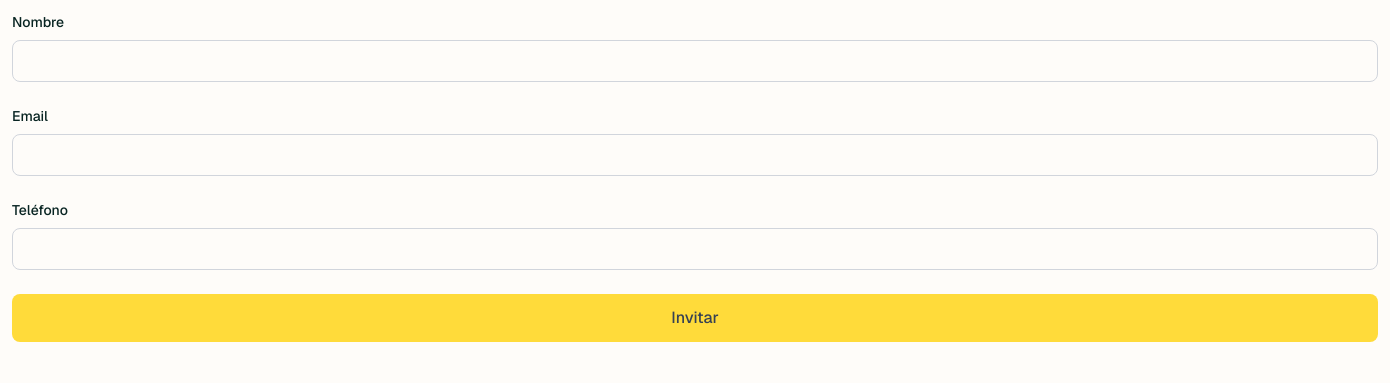
Scenario: ReferralForm › should show validation error for invalid email
Step 1. Type "John Doe" into the field labelled "Nombre" → {"x": 695, "y": 61}, box [12,40,1378,82]
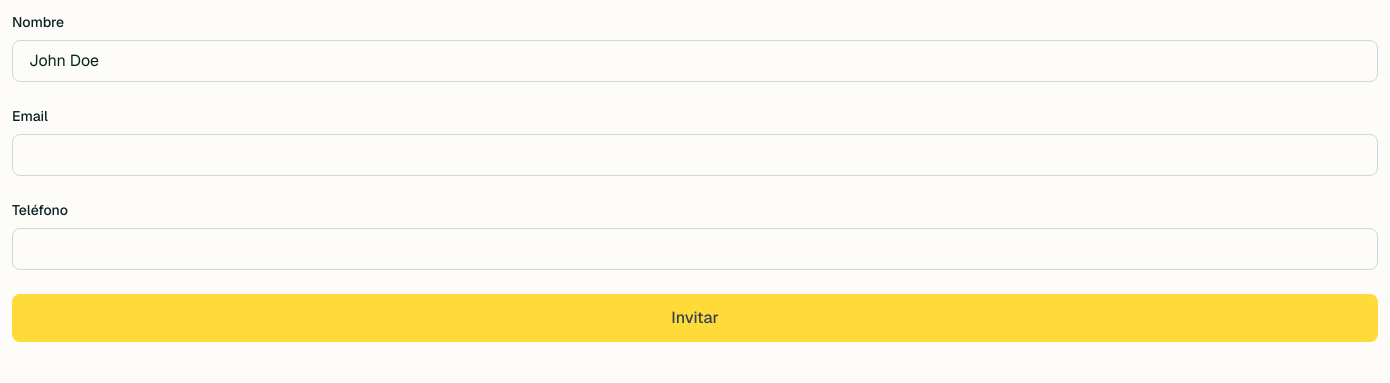
Step 2. Type "invalid-email" into the field labelled "Email" → {"x": 695, "y": 155}, box [12,134,1378,176]
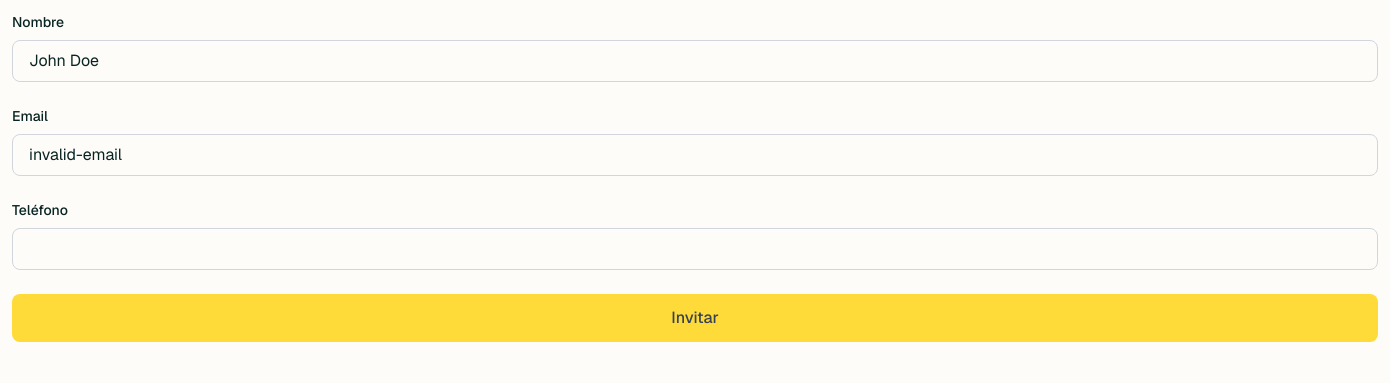
Step 3. Type "+1234567890" into the field labelled "Teléfono" → {"x": 695, "y": 249}, box [12,228,1378,270]
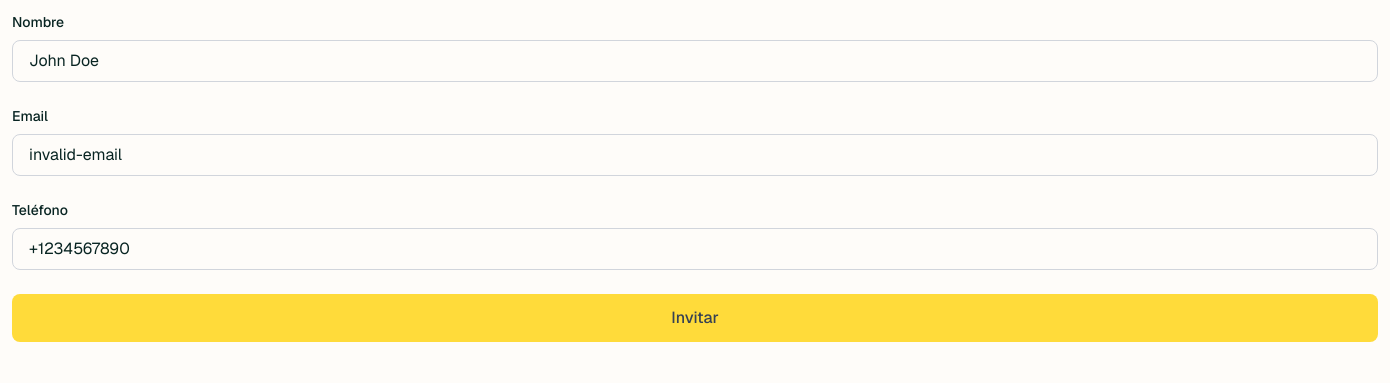
Step 4. Submit the form labelled "Nombre"
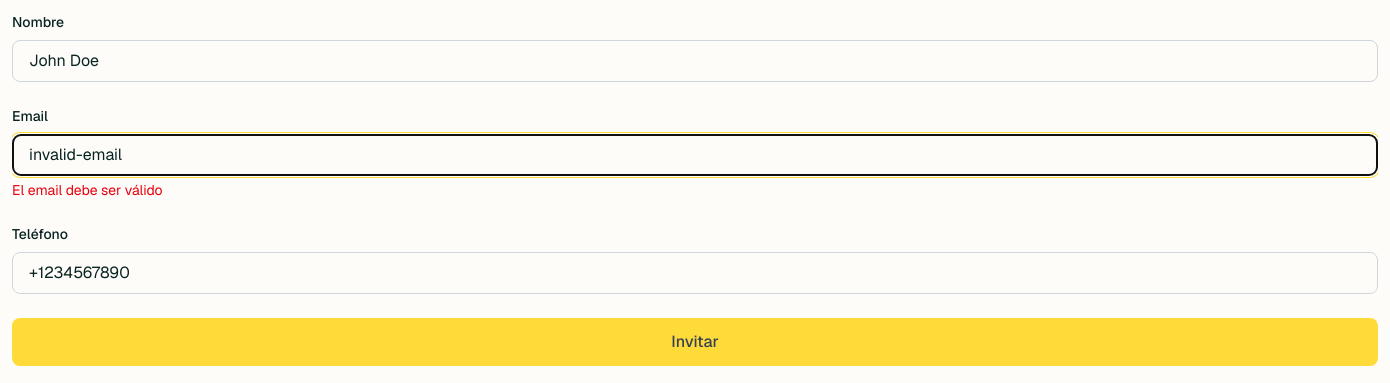
Check: the text "El email debe ser válido" is shown, box [12,181,163,199]
